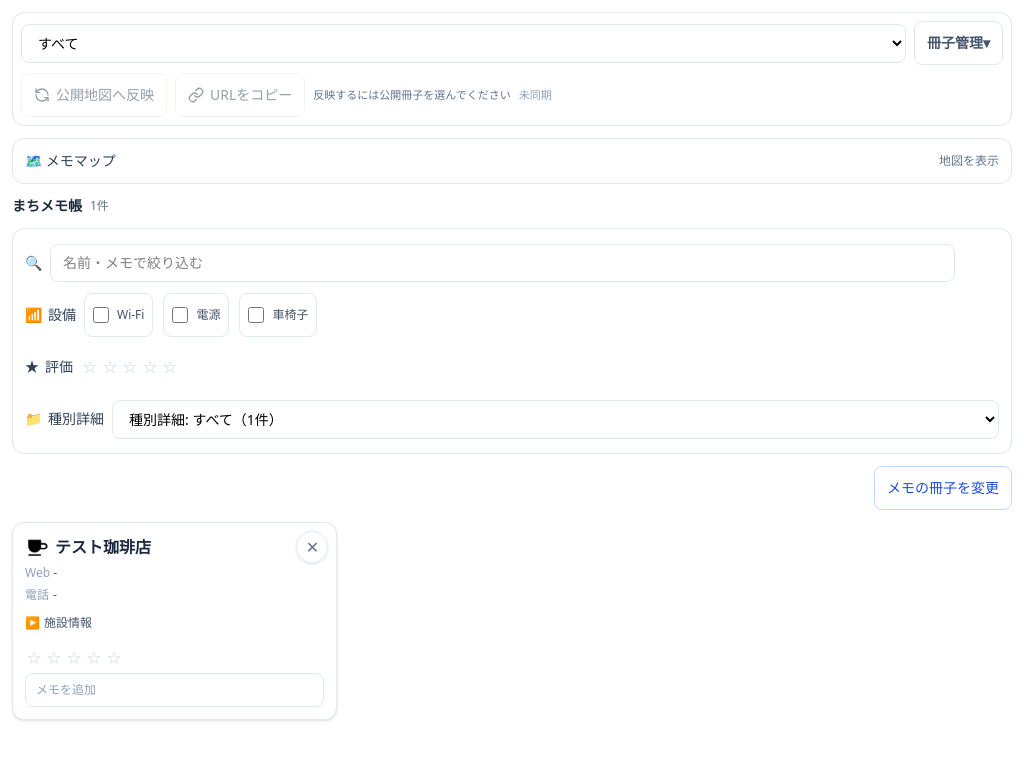
Test: 公開マップのURLをコピー › ユーザーIDがメールアドレス形式なら案内が出てコピーされない
Select "デフォルト（公開）" in the dropdown named "スクラップブック" at [464, 43], box [21, 24, 906, 62]
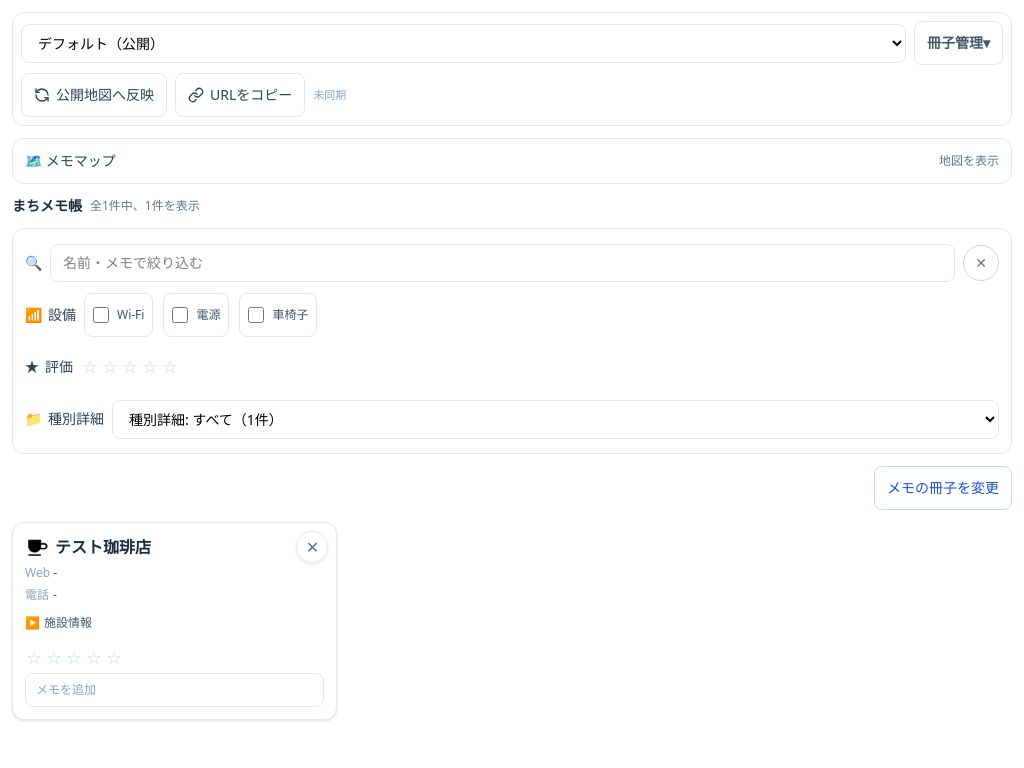
Click the button "URLをコピー" at [240, 95], box [175, 73, 305, 117]
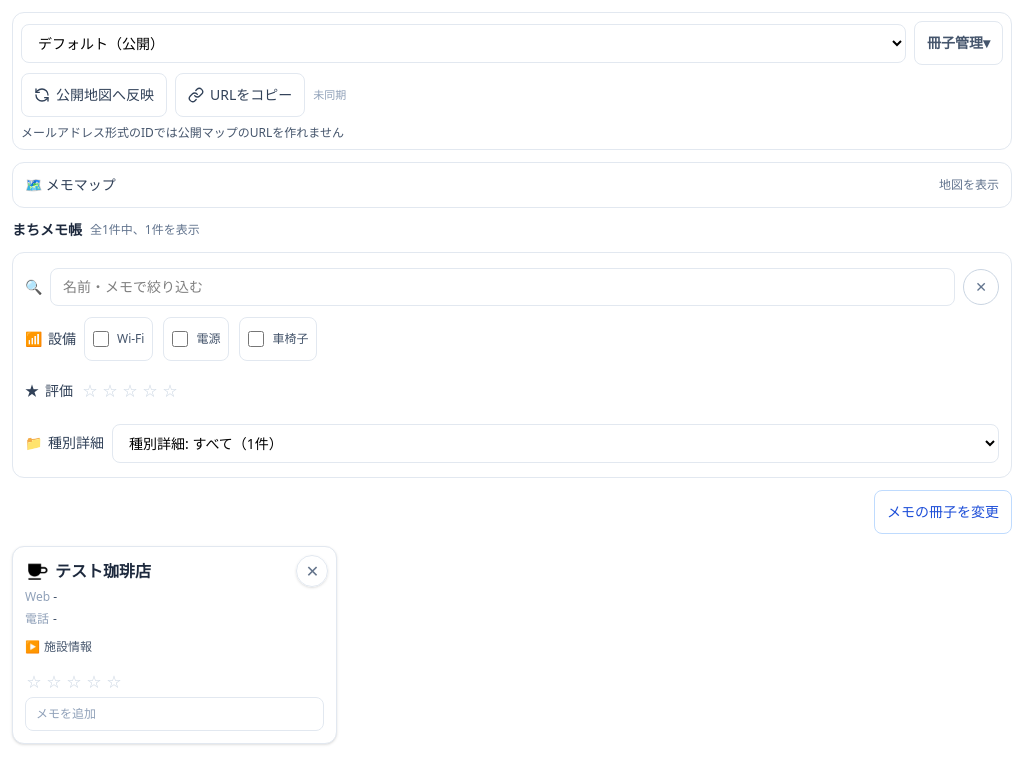
Check: the message reads "メールアドレス形式のIDでは公開マップのURLを作れません", box [21, 124, 344, 141]
